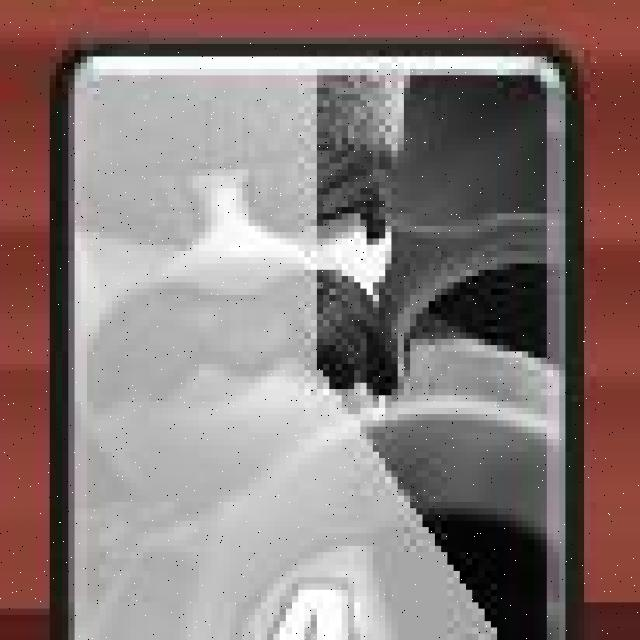Hunter: (49, 38, 586, 640)
